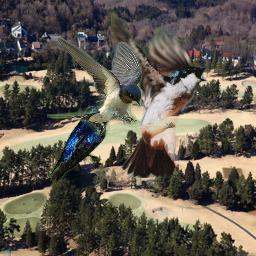Swallow: (104, 5, 208, 178), (47, 35, 142, 136), (48, 106, 107, 182)
